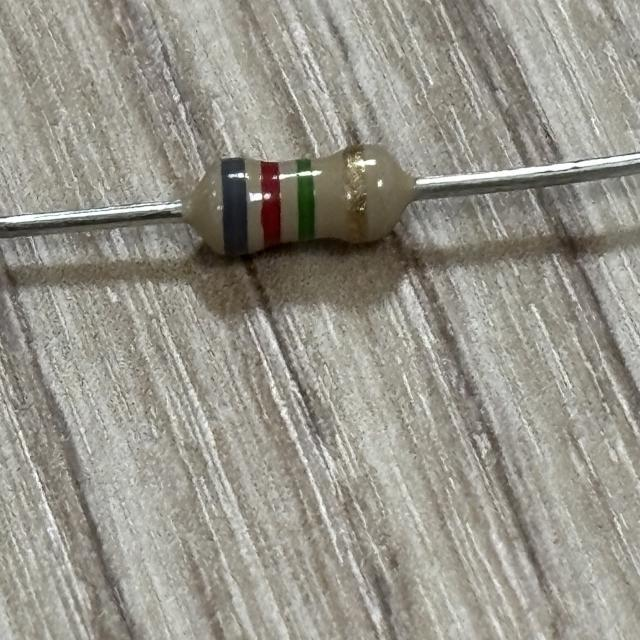resistor: (199, 140, 395, 261)
